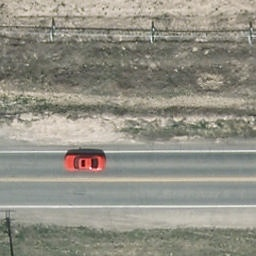car: (63, 154, 109, 174)
